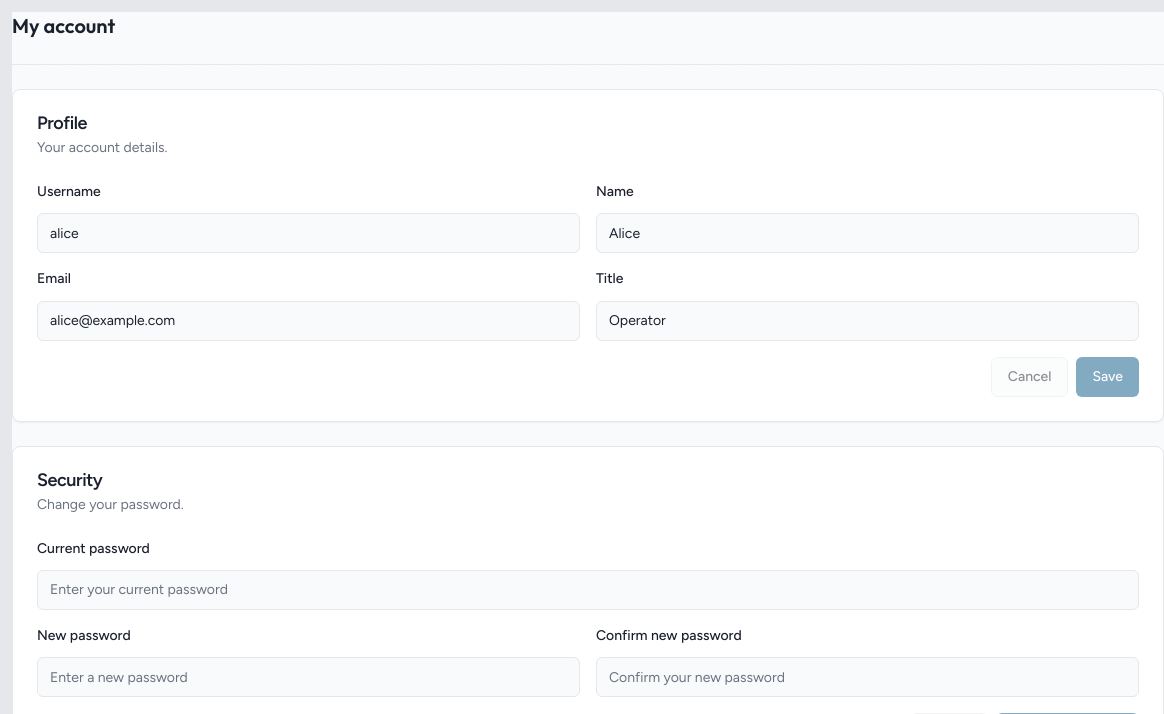
Test case: SettingsPage › keeps the profile actions disabled until a field changes
Expected: the button "Save" is disabled, [1076,356,1139,396]
Expected: the 1st button "Cancel" is disabled, [991,356,1068,396]
Type "x" into the field labelled "Name" at (868, 233), box [596,213,1139,253]
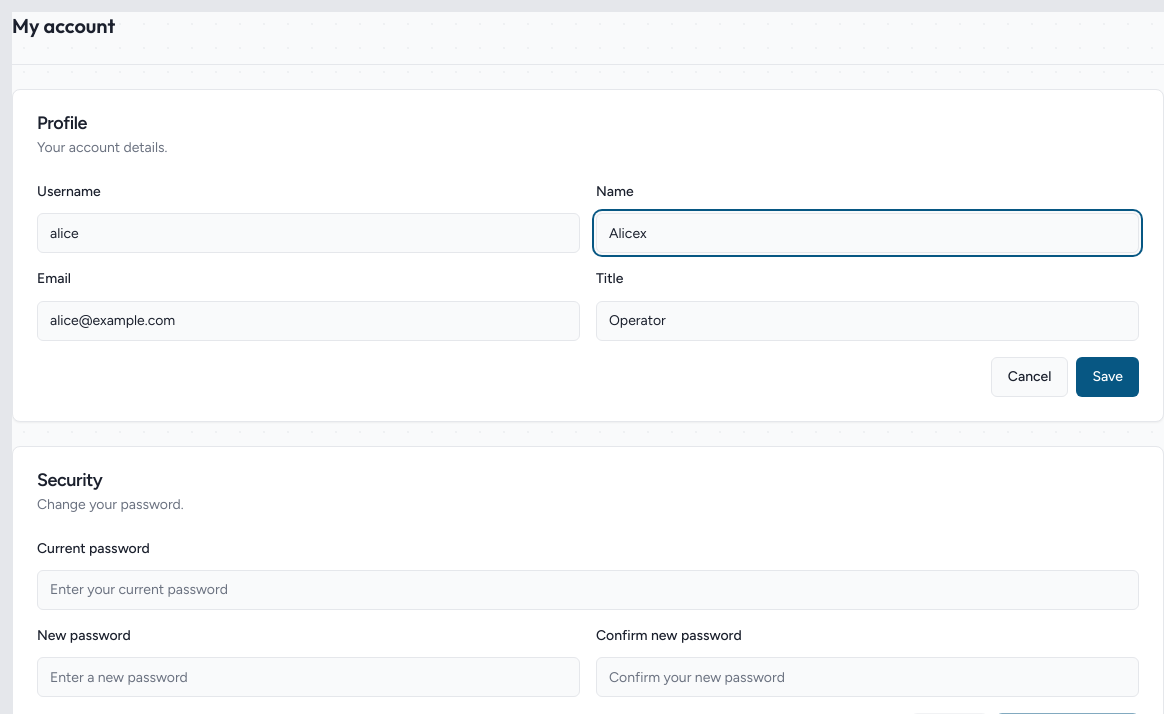
Expected: the button "Save" is enabled, [1076,356,1139,396]
Expected: the 1st button "Cancel" is enabled, [991,356,1068,396]
